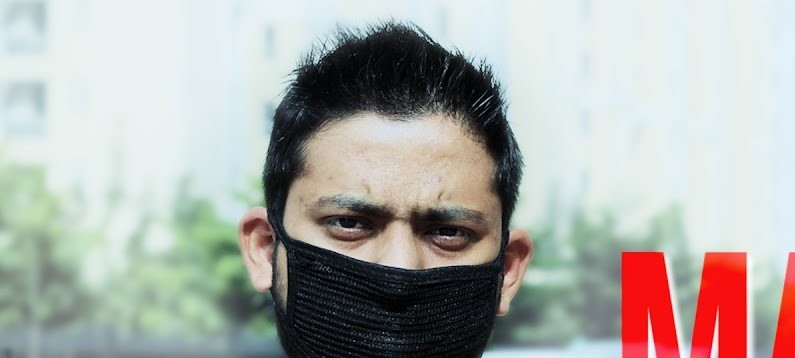with_mask: (244, 102, 536, 358)
